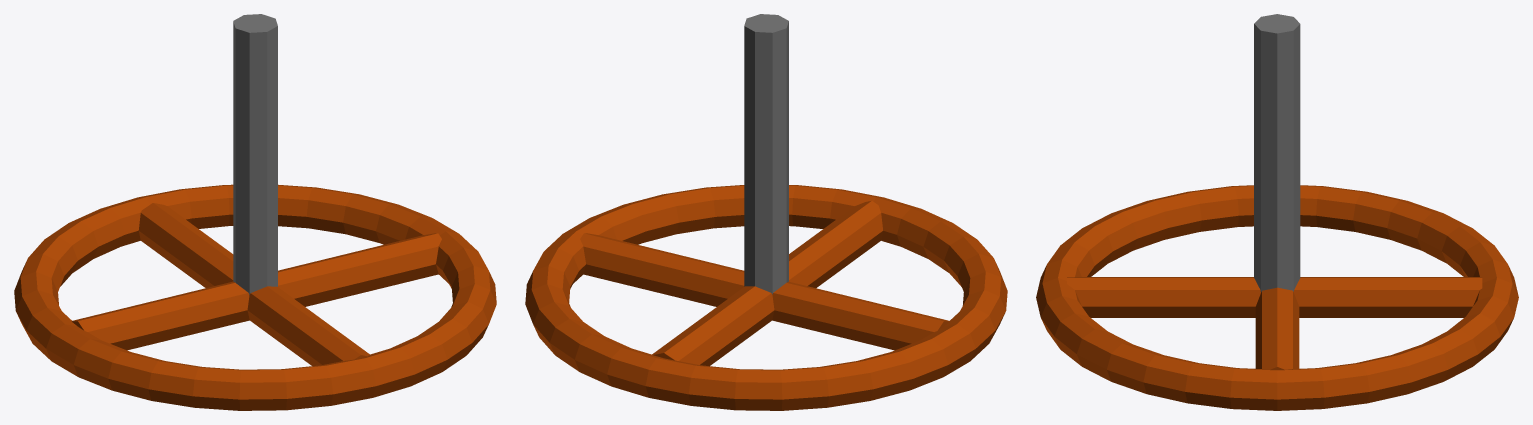
File: Medium_valve.fbx
3 renders of one model, left to right at view 1: azimuth 30°, elevation 25°; view 2: azimuth 150°, elevation 25°; view 3: azimuth 270°, elevation 25°, orthographic.
Parts seen in each view (by area): view 1: Cylinder.001; view 2: Cylinder.001; view 3: Cylinder.001.
Part boxes in pixels (bbox=[...]): Cylinder.001: bbox=[14, 14, 496, 410]; Cylinder.001: bbox=[525, 14, 1007, 410]; Cylinder.001: bbox=[1036, 14, 1518, 410].
Bounding box in the file's own units: 2507 × 1683 × 2507.
